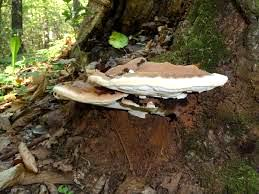Ganoderma - Fruit Body: (85, 62, 229, 101), (47, 79, 131, 113)
